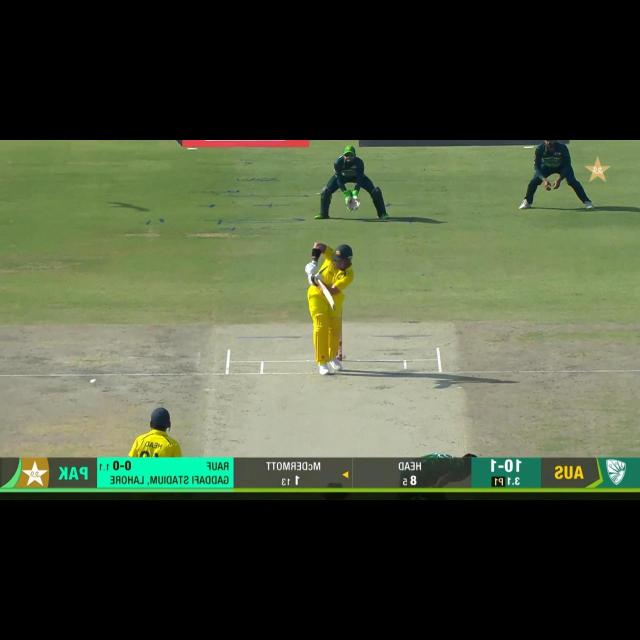bat: (314, 278, 336, 311)
toe: (329, 297, 336, 312)
